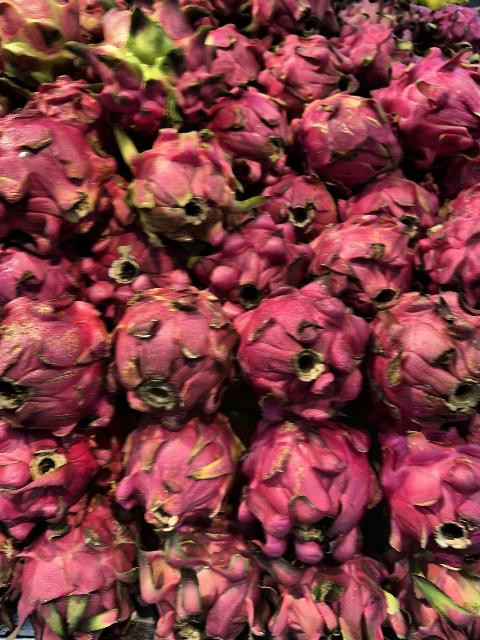buah-naga-belum-matang: (102, 112, 258, 245), (86, 6, 212, 126), (0, 296, 110, 432), (6, 0, 76, 96)
buah-naga-matang: (100, 267, 252, 418), (242, 412, 376, 558), (223, 280, 369, 412), (11, 504, 133, 640), (366, 287, 480, 411), (5, 107, 104, 249), (141, 522, 253, 640), (254, 540, 384, 640), (384, 420, 480, 552), (116, 416, 234, 522), (368, 55, 480, 155), (284, 78, 390, 174), (300, 217, 418, 297), (0, 428, 92, 522), (188, 230, 312, 298), (404, 179, 480, 289), (380, 558, 480, 640), (73, 234, 189, 300), (333, 172, 435, 238), (260, 44, 356, 112), (210, 88, 286, 162), (248, 165, 328, 232), (198, 26, 266, 90), (0, 250, 86, 296)
